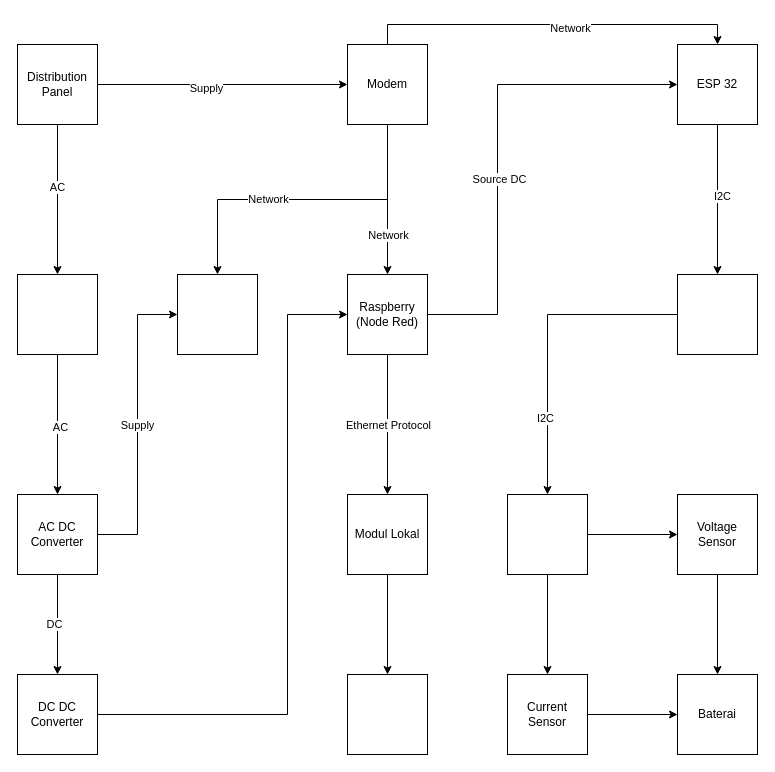
This 775x772 diagram has some shape labels left out. Each missing label, with the centre of its shape:
"ADC Converter" belongs at point (547, 534).
"Display" belongs at point (717, 314).
"Inverter Sunny Island" belongs at point (387, 714).
"MCB" belongs at point (57, 314).
"Router" belongs at point (217, 314).
